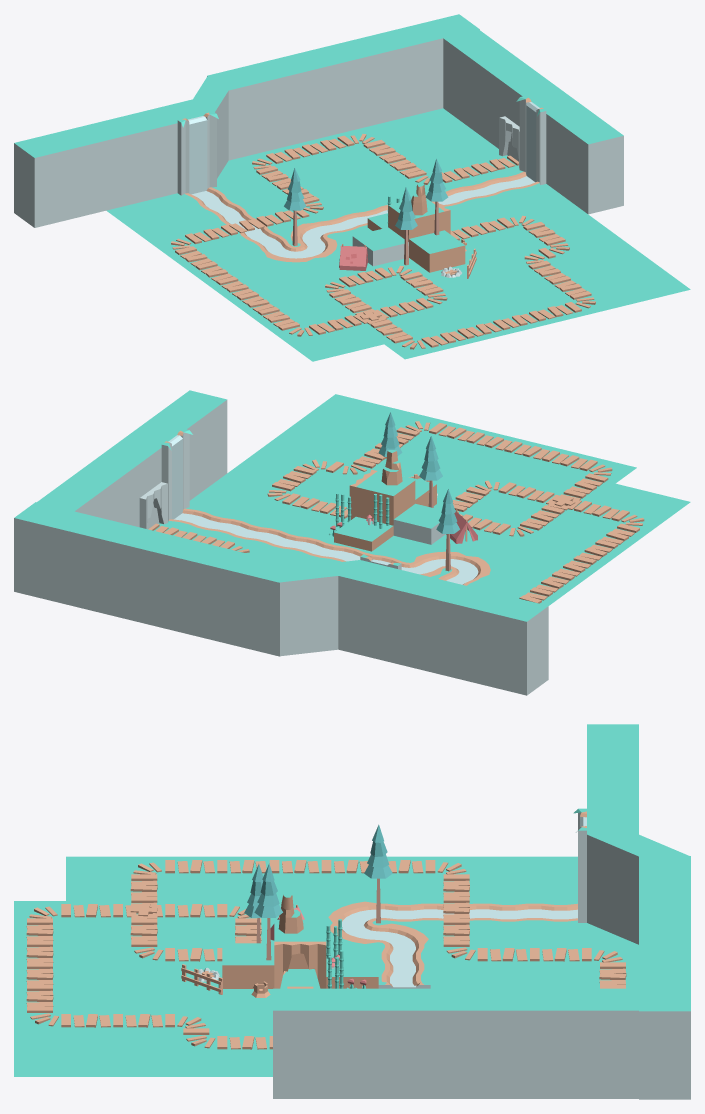
The model's file is map.glb.
The picture shows the model from 3 angles, top to bottom: view 1: azimuth 30°, elevation 25°; view 2: azimuth 150°, elevation 25°; view 3: azimuth 270°, elevation 25°; orthographic projection. The views are drawn at different scales.
Visible parts, largest first — view 1: cliff_block_stone.007, cliff_block_stone.002, cliff_block_stone.001, ground_grass.053, ground_grass.054, ground_grass.068, cliff_blockHalf_rock, cliff_waterfallTop_stone, cliff_waterfall_stone, cliff_blockDiagonal_stone.001, cliff_waterfallTop_stone.001, cliff_blockCave_rock (+61 smaller); view 2: cliff_block_stone.007, cliff_block_stone.001, cliff_block_stone.002, cliff_blockDiagonal_stone.002, cliff_blockCave_rock, cliff_blockQuarter_rock, cliff_waterfallTop_stone.001, cliff_blockQuarter_stone.001, ground_grass.054, cliff_cave_stone, cliff_waterfall_stone.001, ground_riverBendBank.002 (+54 smaller); view 3: cliff_block_stone.002, cliff_block_stone.007, ground_grass.053, cliff_block_stone.001, cliff_blockDiagonal_stone.001, cliff_blockHalf_rock, ground_grass.068, cliff_cave_rock, cliff_blockQuarter_rock, ground_riverBendBank, ground_grass.057, ground_grass.026 (+86 smaller).
Part boxes in pixels (x1,y1,x2,y2): cliff_block_stone.007: [207, 14, 479, 160]; cliff_block_stone.002: [443, 29, 623, 214]; cliff_block_stone.001: [14, 99, 209, 227]; ground_grass.053: [217, 158, 382, 229]; ground_grass.054: [321, 132, 489, 203]; ground_grass.068: [217, 108, 463, 183]; cliff_blockHalf_rock: [409, 230, 465, 272]; cliff_waterfallTop_stone: [177, 111, 218, 159]; cliff_waterfall_stone: [177, 151, 216, 195]; cliff_blockDiagonal_stone.001: [193, 90, 228, 178]; cliff_waterfallTop_stone.001: [516, 96, 546, 149]; cliff_blockCave_rock: [388, 198, 444, 241]; cliff_block_stone.007: [14, 502, 300, 656]; cliff_block_stone.001: [338, 560, 548, 695]; cliff_block_stone.002: [36, 390, 227, 529]; cliff_blockDiagonal_stone.002: [279, 567, 338, 655]; cliff_blockCave_rock: [356, 471, 415, 525]; cliff_blockQuarter_rock: [334, 516, 393, 551]; cliff_waterfallTop_stone.001: [161, 428, 192, 484]; cliff_blockQuarter_stone.001: [393, 503, 441, 538]; ground_grass.054: [192, 530, 311, 566]; cliff_cave_stone: [139, 482, 167, 528]; cliff_waterfall_stone.001: [168, 470, 189, 521]; ground_riverBendBank.002: [450, 554, 506, 578]; cliff_block_stone.002: [273, 988, 640, 1098]; cliff_block_stone.007: [639, 856, 690, 1099]; ground_grass.053: [430, 923, 586, 988]; cliff_block_stone.001: [587, 724, 638, 834]; cliff_blockDiagonal_stone.001: [587, 834, 638, 944]; cliff_blockHalf_rock: [222, 943, 274, 988]; ground_grass.068: [587, 923, 638, 988]; cliff_cave_rock: [274, 941, 326, 988]; cliff_blockQuarter_rock: [326, 955, 378, 988]; ground_riverBendBank: [378, 923, 430, 947]; ground_grass.057: [482, 856, 534, 878]; ground_grass.026: [66, 856, 117, 878].
Size of the model in its own units: 13.03 by 2.58 by 13.
